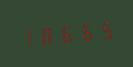eight: (37, 22, 55, 47)
five: (94, 17, 112, 42)
one: (18, 24, 36, 49)
six: (56, 20, 74, 46), (75, 19, 93, 44)
